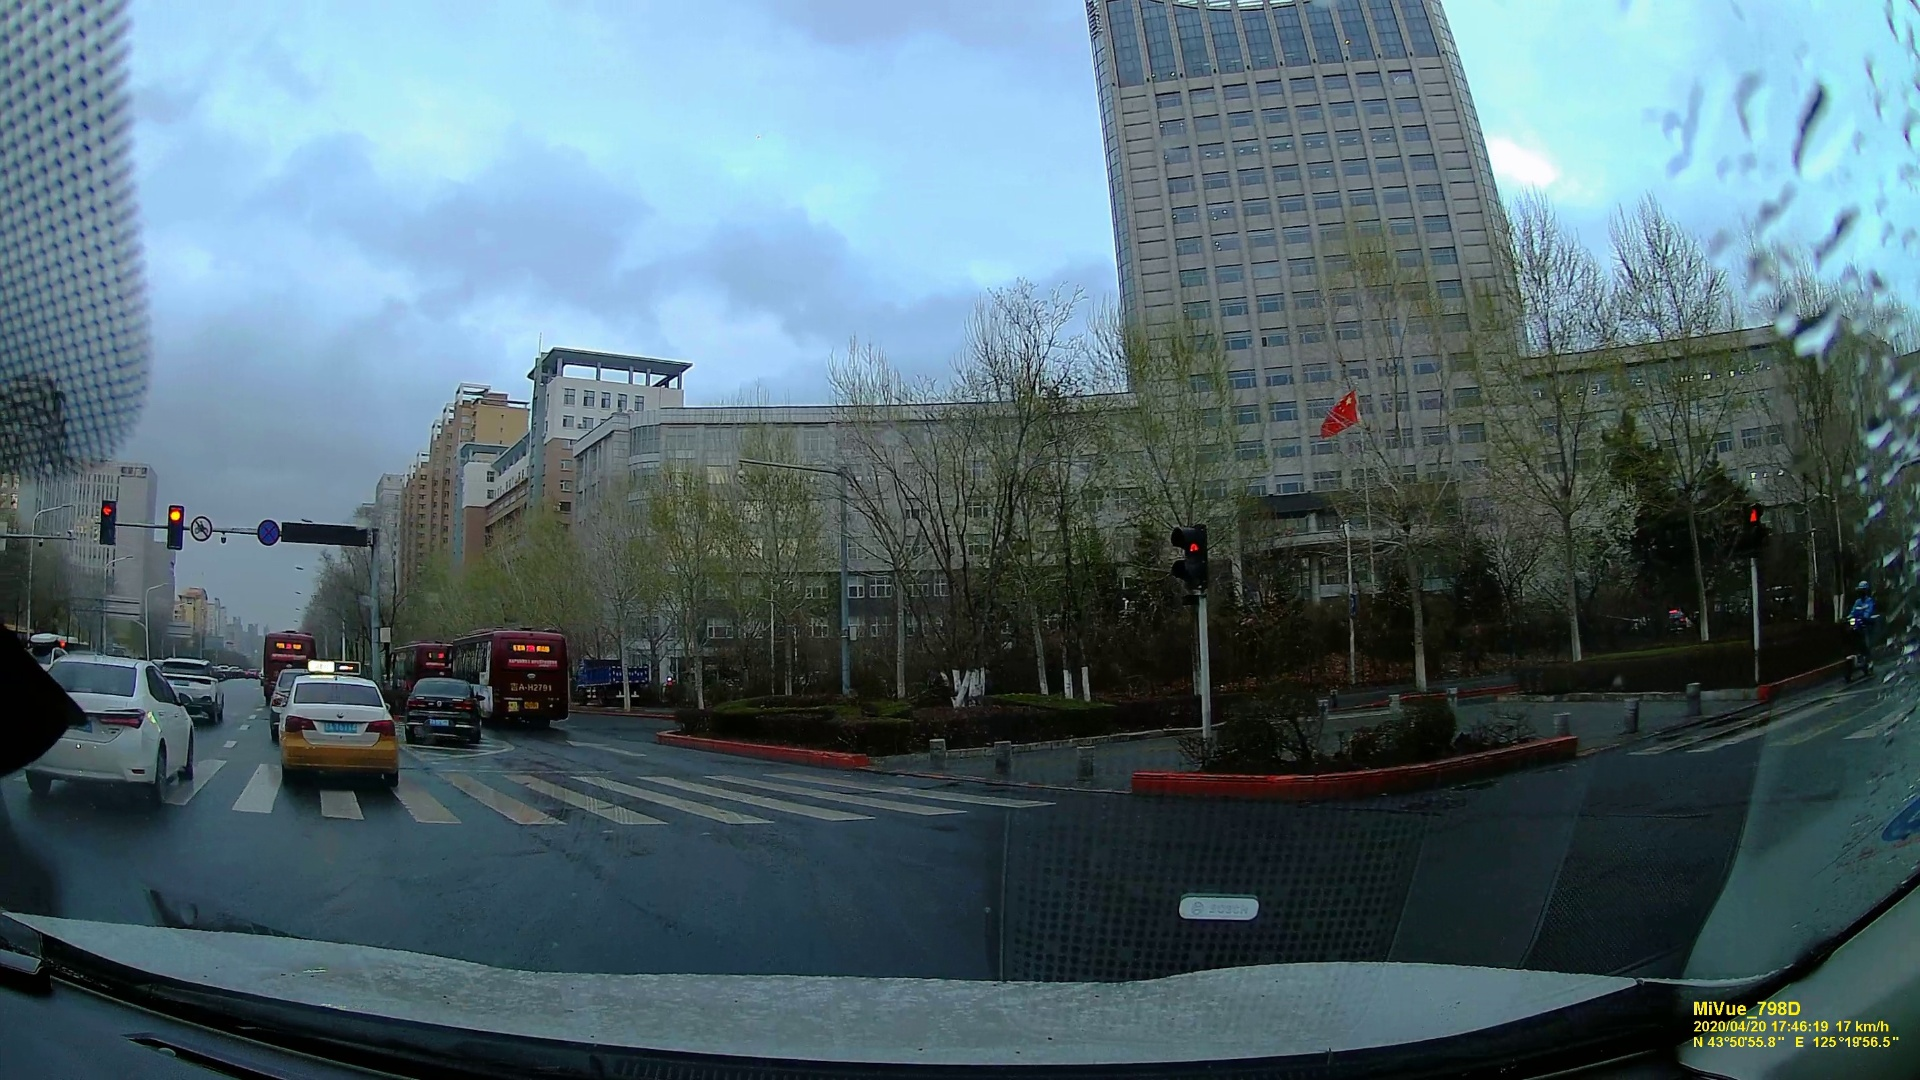bus: (443, 628, 560, 732), (261, 632, 313, 674)
traffic_sign: (1166, 524, 1213, 585), (164, 506, 186, 549), (257, 520, 281, 546), (100, 500, 113, 542), (190, 516, 211, 541)
truck: (575, 655, 647, 705)
vehicle: (22, 649, 200, 810), (281, 673, 397, 790), (405, 678, 480, 742), (25, 633, 70, 651)
